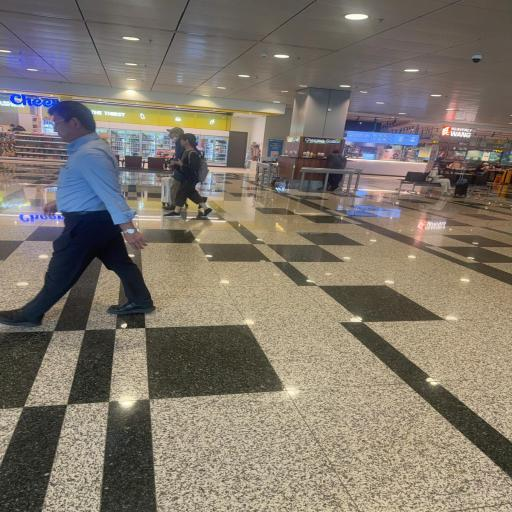person_left: (0, 100, 156, 327), (166, 126, 188, 162)
person_with_luggage_left: (160, 132, 214, 220)
